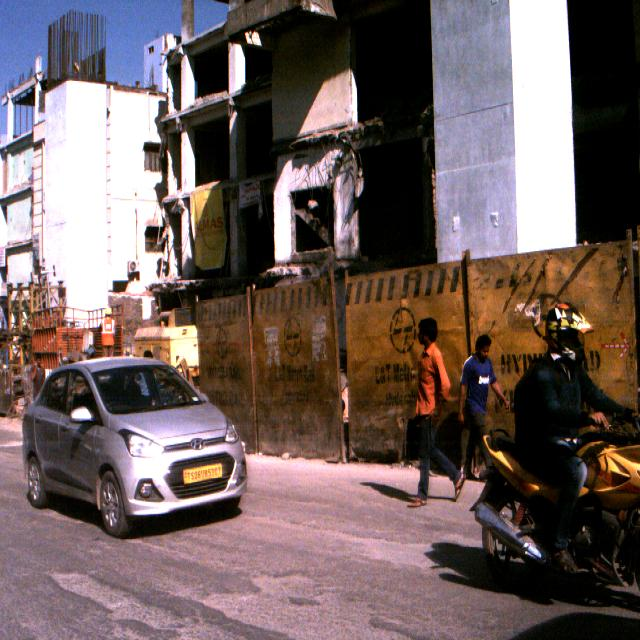car ahead at: (30, 349, 248, 550)
motorcycle ahead at: (474, 415, 640, 596)
person ahead at: (404, 314, 464, 514)
